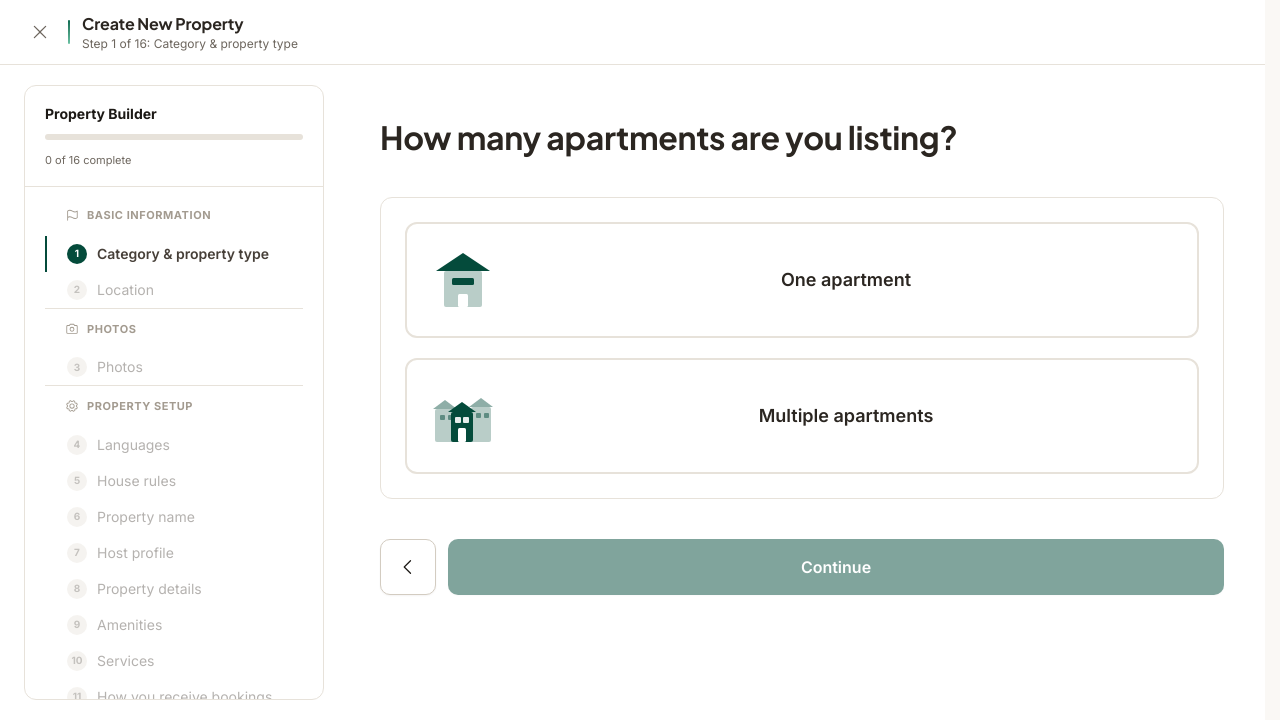
Test: PropertyScopePage — quick-start intro › reveals the address question for Multiple and carries its answers forward
The image size is (1280, 720).
Click the text "Multiple apartments": (846, 416) [759,405,933,426]
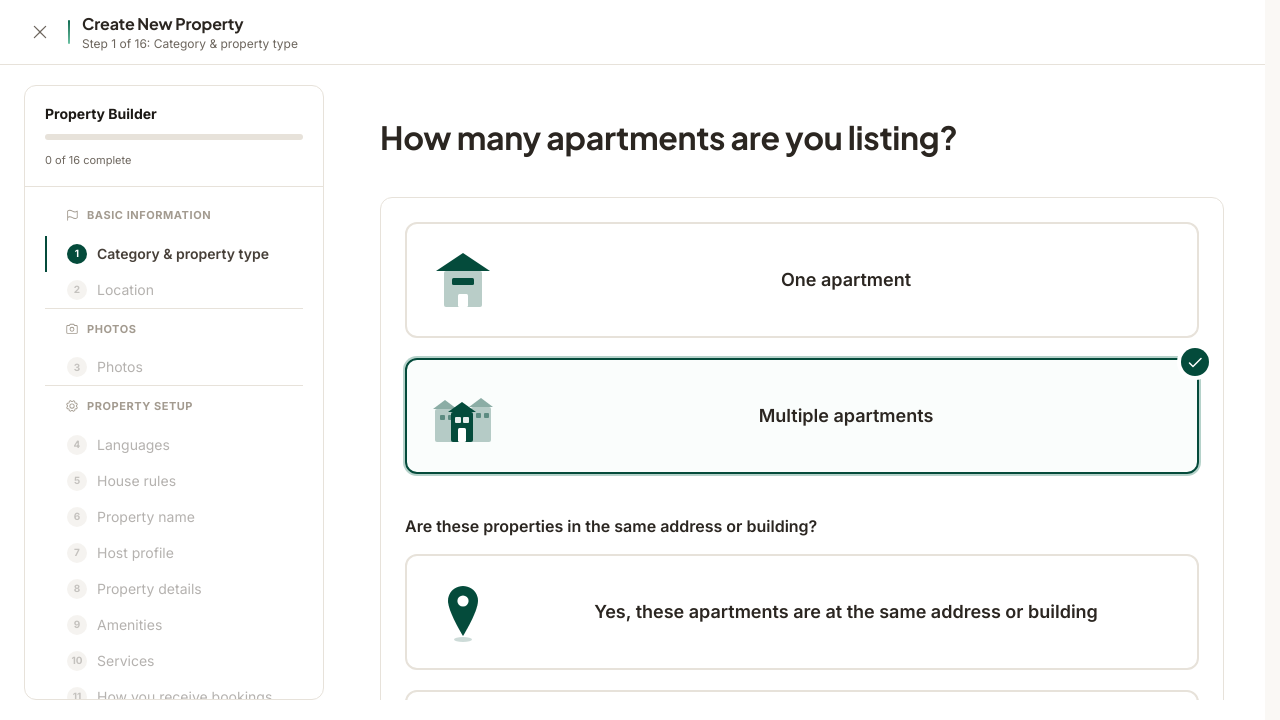
Now the text "Are these properties in the same address or building?" is shown, box [405,516,817,536]
Click the text "Yes, these apartments are at the same address or building": (846, 612) [594,601,1098,622]
(page scrolled)
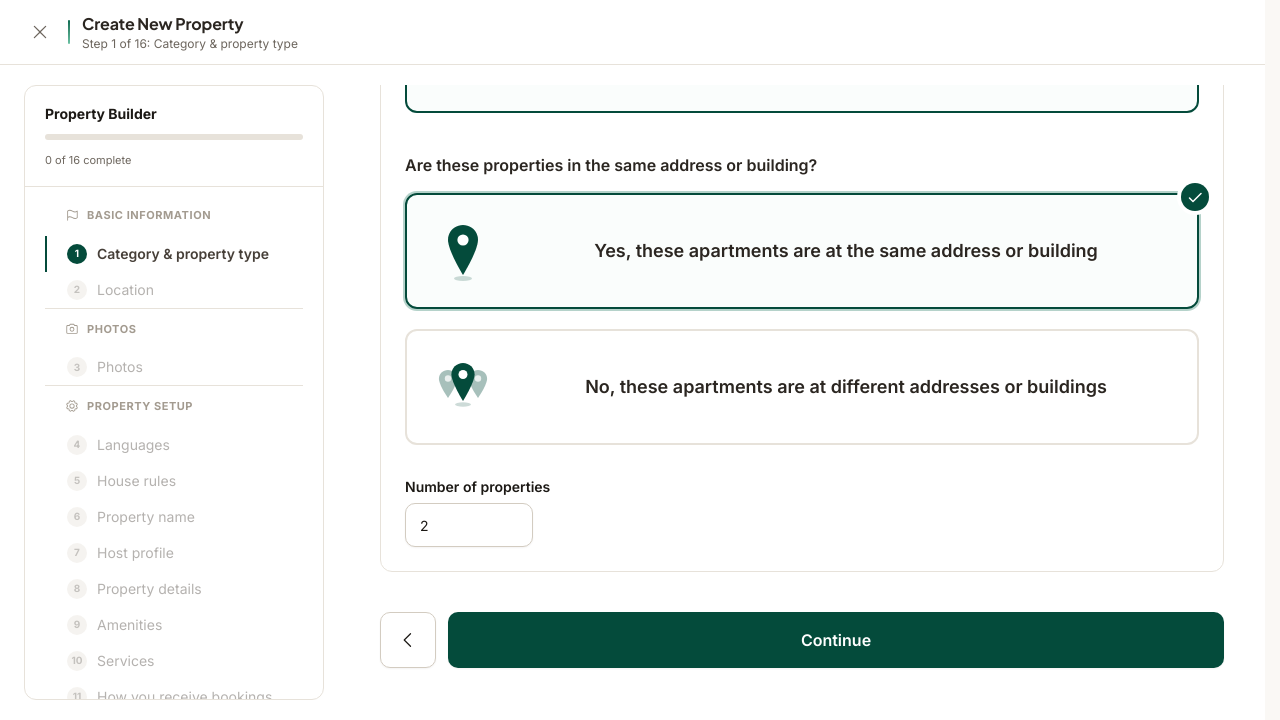
Now the button "Continue" is enabled
Click the button "Continue": (836, 640) [448,612,1224,668]
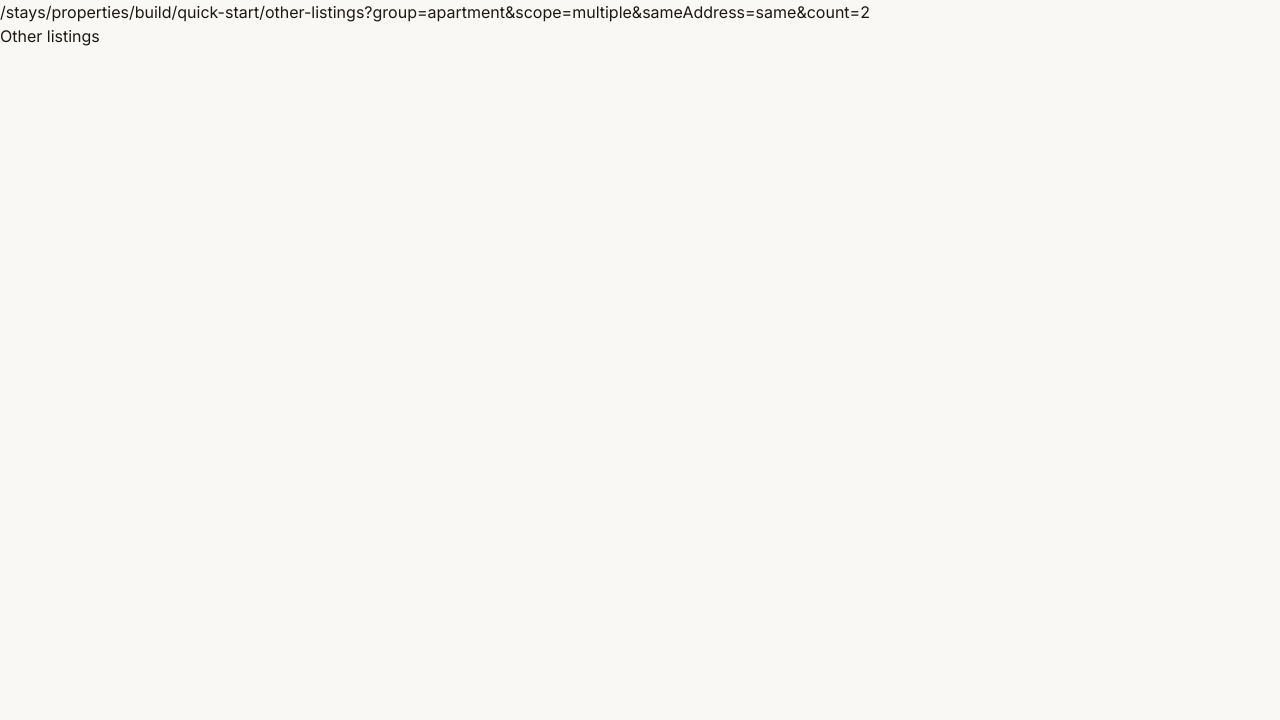
Now the text with test id "location" shows "/stays/properties/build/quick-start/other-listings?group=apartment&scope=multiple&sameAddress=same&count=2", box [0,2,870,22]
